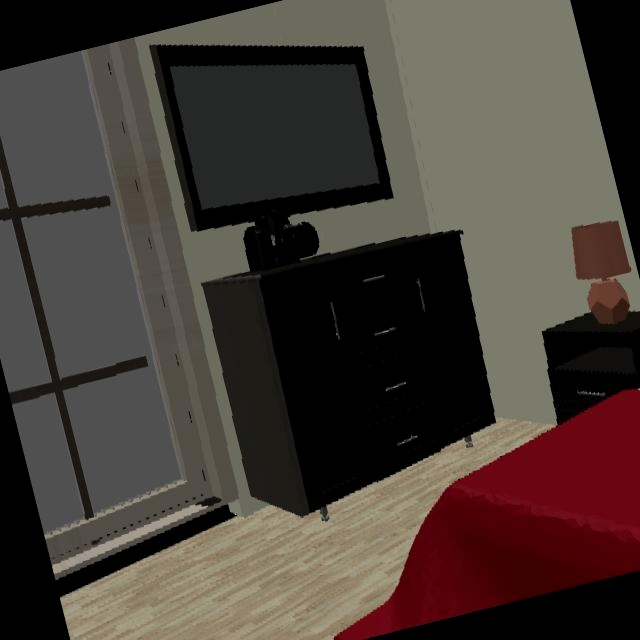bed: (336, 389, 640, 640)
cabinet: (201, 230, 497, 517)
lamp: (571, 221, 634, 325)
nighttable: (543, 311, 640, 425)
